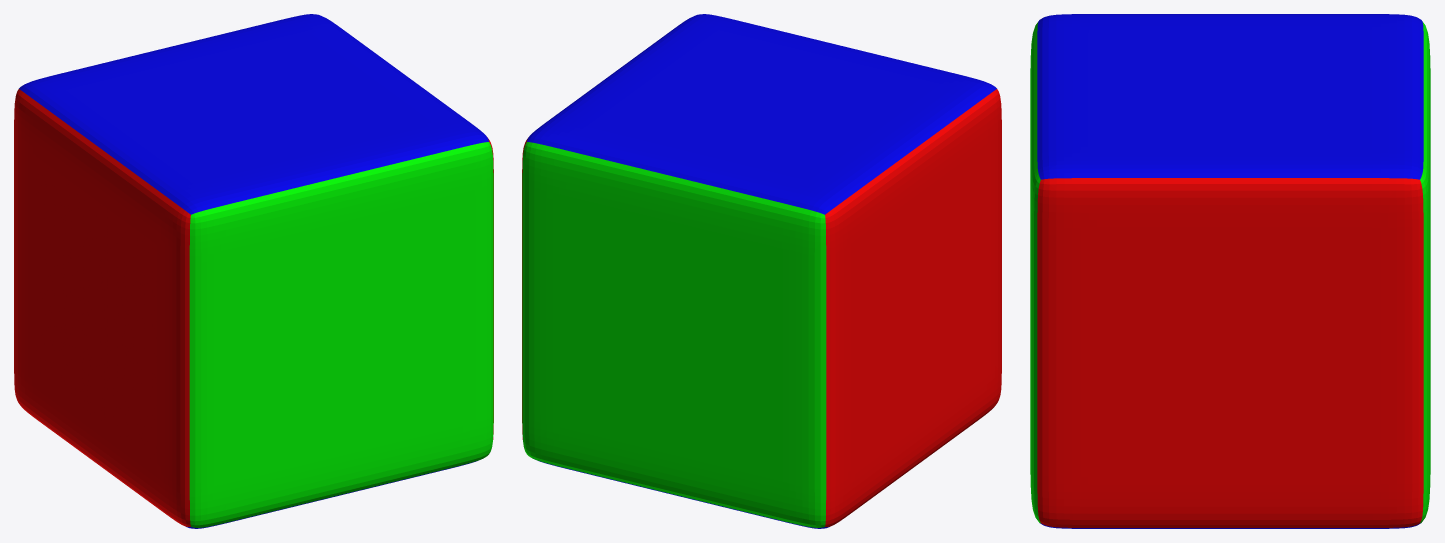
3 views of the same model, side by side, from view 1: azimuth 30°, elevation 25°; view 2: azimuth 150°, elevation 25°; view 3: azimuth 270°, elevation 25° (orthographic). The views are drawn at different scales.
Visible parts, largest first — view 1: Cube; view 2: Cube; view 3: Cube.
Part boxes in pixels (bbox=[...]): Cube: bbox=[14, 14, 493, 528]; Cube: bbox=[522, 14, 1001, 528]; Cube: bbox=[1030, 14, 1430, 528].
Bounding box in the file's own units: 2 × 2 × 2.
